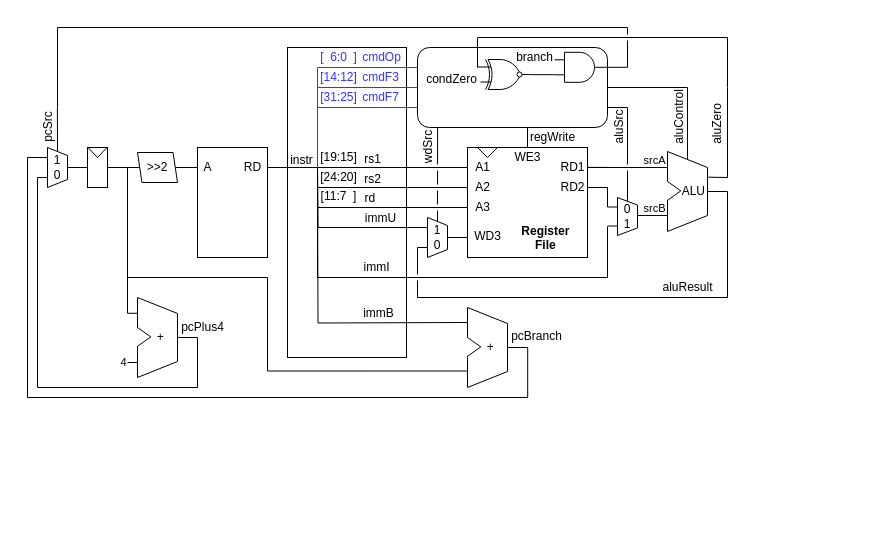
Image size: 875x555. Some labels were removed from this diagram. Here are the shapes that lost their labels. From the top down, the box of each, then its label:
(416, 46, 608, 128): Control Unit
(86, 146, 108, 188): PC
(196, 146, 268, 258): Instruction Memory
(286, 46, 406, 358): Instruction Decode
